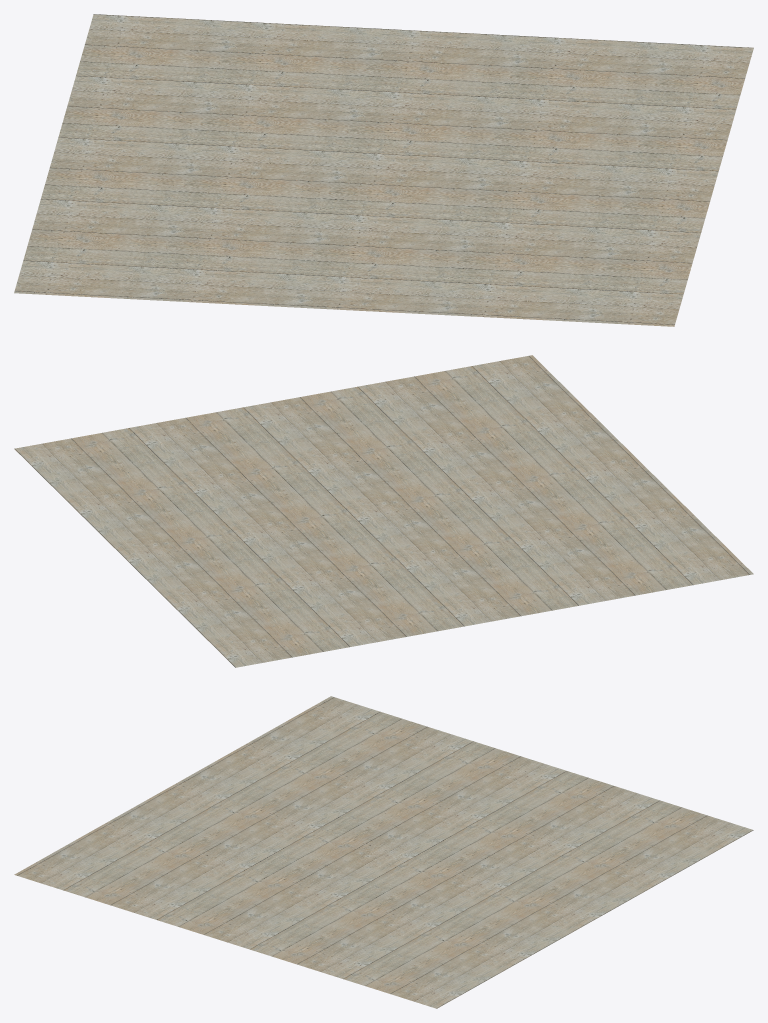
The model's file is woodPlank.glb.
3 renders of one model, top to bottom at view 1: azimuth 30°, elevation 25°; view 2: azimuth 150°, elevation 25°; view 3: azimuth 270°, elevation 25°, orthographic. The views are drawn at different scales.
Parts seen in each view (by area): view 1: Cube; view 2: Cube; view 3: Cube.
Boxes of the visible parts, <box> form: Cube: <box>14,14,753,326</box>; Cube: <box>14,355,753,667</box>; Cube: <box>14,696,753,1008</box>.
Bounding box in the file's own units: 9.52 × 0 × 9.52.
Materials: 1 (1 with a texture image).
